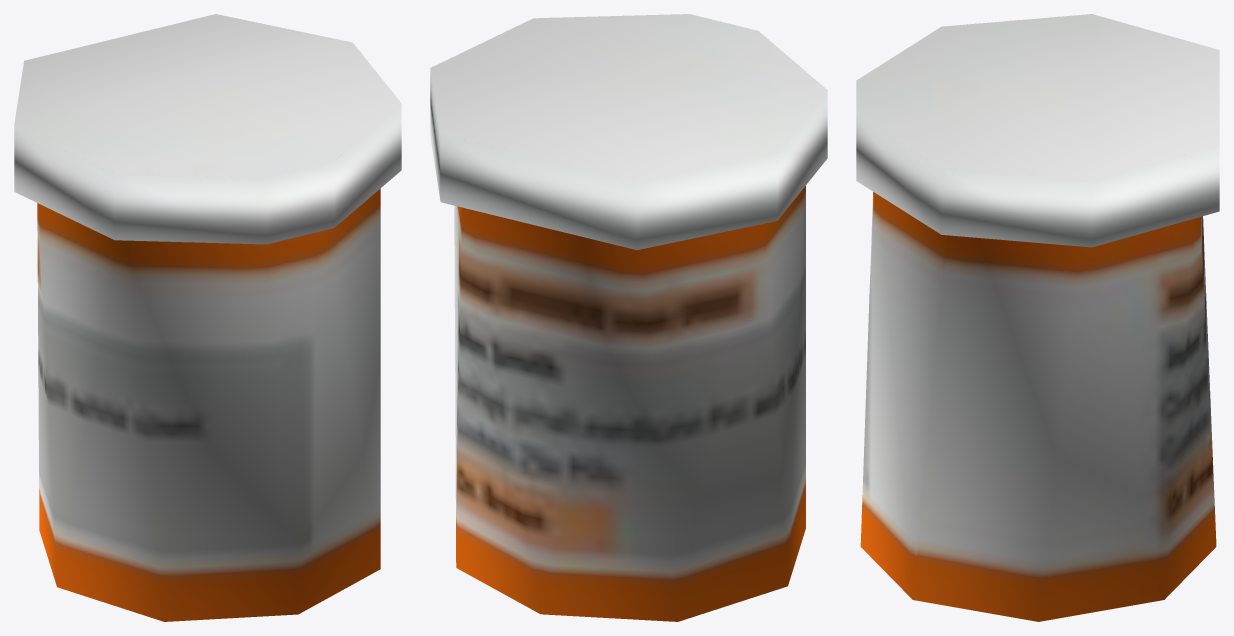
File: medicine_pot.glb
3 views of the same model, side by side, from view 1: azimuth 30°, elevation 25°; view 2: azimuth 150°, elevation 25°; view 3: azimuth 270°, elevation 25° (orthographic). The views are drawn at different scales.
Parts seen in each view (by area): view 1: Medicine_0; view 2: Medicine_0; view 3: Medicine_0.
Part boxes in pixels (x1,y1,x2,y2): Medicine_0: (14,14,401,621); Medicine_0: (430,14,827,621); Medicine_0: (856,14,1219,621).
Size of the model in its own units: 2.21 by 2.79 by 2.04.
2 materials, 2 textured.
